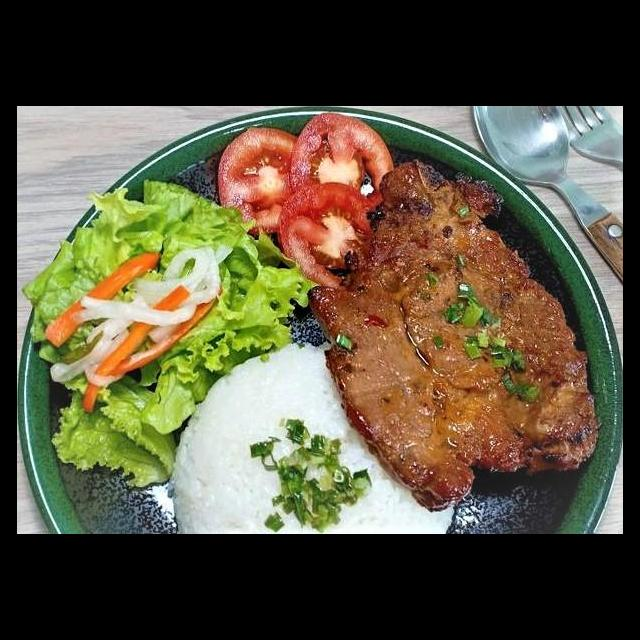com: (19, 209, 298, 416)
com suon: (20, 139, 623, 527)
dua chua: (182, 124, 434, 262)
suon: (40, 308, 552, 520)
